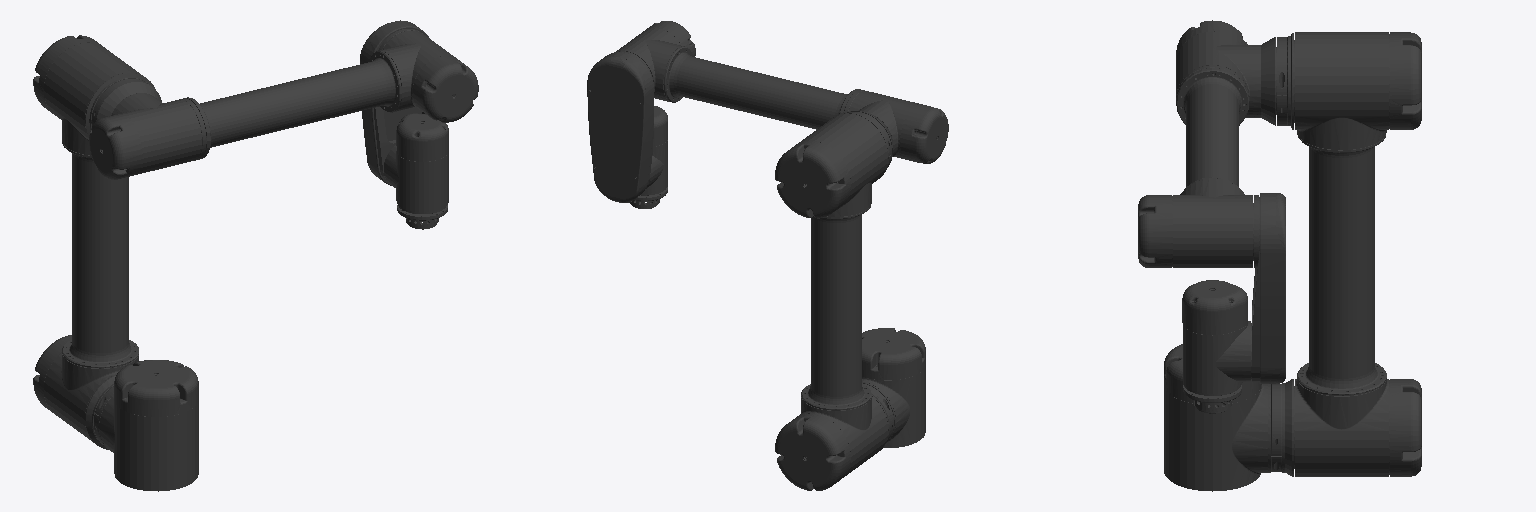
robot.urdf — robofox:
<?xml version="1.0" ?>
<!-- =================================================================================== -->
<!-- |    This document was autogenerated by xacro from robofox.urdf.xacro             | -->
<!-- |    EDITING THIS FILE BY HAND IS NOT RECOMMENDED                                 | -->
<!-- =================================================================================== -->
<robot name="robofox">
  <!-- chain -->
  <link name="robofox_base_link">
    <inertial>
      <origin rpy="0.0 0.0 0.0" xyz="1e-05 -0.0001 0.01969"/>
      <mass value="2.3"/>
      <inertia ixx="0.01013213" ixy="-2.04e-06" ixz="-5.7e-07" iyy="0.01013678" iyz="2.4e-07" izz="0.01483524"/>
    </inertial>
    <visual>
      <origin rpy="0 0 0" xyz="0 0 0"/>
      <geometry>
        <mesh filename="package://ibt_ros2_description/meshes/robofox_61814v3/visual/base_link.STL"/>
      </geometry>
      <material name="">
        <color rgba="0.30 0.30 0.30 1"/>
      </material>
    </visual>
    <collision>
      <origin rpy="0 0 0" xyz="0 0 0"/>
      <geometry>
        <mesh filename="package://ibt_ros2_description/meshes/robofox_61814v3/visual/base_link.STL"/>
      </geometry>
    </collision>
  </link>
  <link name="robofox_link1">
    <inertial>
      <origin rpy="0.0 0.0 0.0" xyz="-0.0001 0.00637 -0.02297"/>
      <mass value="19.67"/>
      <inertia ixx="0.13027937" ixy="7.454e-05" ixz="-0.00016703" iyy="0.12260381" iyz="0.00290136" izz="0.09448701"/>
    </inertial>
    <visual>
      <origin rpy="0 0 0" xyz="0 0 0"/>
      <geometry>
        <mesh filename="package://ibt_ros2_description/meshes/robofox_61814v3/visual/link1.STL"/>
      </geometry>
      <material name="">
        <color rgba="0.30 0.30 0.30 1"/>
      </material>
    </visual>
    <collision>
      <origin rpy="0 0 0" xyz="0 0 0"/>
      <geometry>
        <mesh filename="package://ibt_ros2_description/meshes/robofox_61814v3/visual/link1.STL"/>
      </geometry>
    </collision>
  </link>
  <joint name="robofox_joint1" type="revolute">
    <origin rpy="0 0 0" xyz="0 0 0.119"/>
    <parent link="robofox_base_link"/>
    <child link="robofox_link1"/>
    <axis xyz="0 0 -1"/>
    <limit effort="600" lower="-3.14" upper="3.14" velocity="1.2436"/>
    <dynamics damping="1" friction="0.1"/>
  </joint>
  <link name="robofox_link2">
    <inertial>
      <origin rpy="0.0 0.0 0.0" xyz="0.3294 0.0 0.23167"/>
      <mass value="41.3"/>
      <inertia ixx="0.22981017" ixy="0.00109137" ixz="0.09325593" iyy="4.8172914" iyz="-2.86e-05" izz="4.74258892"/>
    </inertial>
    <visual>
      <origin rpy="0 0 0" xyz="0 0 0"/>
      <geometry>
        <mesh filename="package://ibt_ros2_description/meshes/robofox_61814v3/visual/link2.STL"/>
      </geometry>
      <material name="">
        <color rgba="0.30 0.30 0.30 1"/>
      </material>
    </visual>
    <collision>
      <origin rpy="0 0 0" xyz="0 0 0"/>
      <geometry>
        <mesh filename="package://ibt_ros2_description/meshes/robofox_61814v3/visual/link2.STL"/>
      </geometry>
    </collision>
  </link>
  <joint name="robofox_joint2" type="revolute">
    <origin rpy="-1.5707963267948966 -1.5707963267948966 0" xyz="0 0 0"/>
    <parent link="robofox_link1"/>
    <child link="robofox_link2"/>
    <axis xyz="0 0 -1"/>
    <limit effort="690" lower="-3.14" upper="3.14" velocity="0.86"/>
    <dynamics damping="1" friction="0.1"/>
  </joint>
  <link name="robofox_link3">
    <inertial>
      <origin rpy="0.0 0.0 0.0" xyz="0.0003 0.00291 0.02181"/>
      <mass value="10.6"/>
      <inertia ixx="0.059281" ixy="0.00023999" ixz="-6.392e-05" iyy="0.00318588" iyz="-0.00095803" izz="0.04416185"/>
    </inertial>
    <visual>
      <origin rpy="0 0 0" xyz="0 0 0"/>
      <geometry>
        <mesh filename="package://ibt_ros2_description/meshes/robofox_61814v3/visual/link3.STL"/>
      </geometry>
      <material name="">
        <color rgba="0.30 0.30 0.30 1"/>
      </material>
    </visual>
    <collision>
      <origin rpy="0 0 0" xyz="0 0 0"/>
      <geometry>
        <mesh filename="package://ibt_ros2_description/meshes/robofox_61814v3/visual/link3.STL"/>
      </geometry>
    </collision>
  </link>
  <joint name="robofox_joint3" type="revolute">
    <origin rpy="0 0 3.141592653589793" xyz="0.725 0 0"/>
    <parent link="robofox_link2"/>
    <child link="robofox_link3"/>
    <axis xyz="0 0 -1"/>
    <limit effort="350" lower="-3.14" upper="3.14" velocity="1.24"/>
    <dynamics damping="1" friction="0.1"/>
  </joint>
  <link name="robofox_link4">
    <inertial>
      <origin rpy="0.0 0.0 0.0" xyz="0.0003 -0.00284 0.61561"/>
      <mass value="10.79"/>
      <inertia ixx="0.25159388" ixy="-0.00026609" ixz="0.0001837" iyy="0.23409286" iyz="-0.00209893" izz="0.041528"/>
    </inertial>
    <visual>
      <origin rpy="0 0 0" xyz="0 0 0"/>
      <geometry>
        <mesh filename="package://ibt_ros2_description/meshes/robofox_61814v3/visual/link4.STL"/>
      </geometry>
      <material name="">
        <color rgba="0.30 0.30 0.30 1"/>
      </material>
    </visual>
    <collision>
      <origin rpy="0 0 0" xyz="0 0 0"/>
      <geometry>
        <mesh filename="package://ibt_ros2_description/meshes/robofox_61814v3/visual/link4.STL"/>
      </geometry>
    </collision>
  </link>
  <joint name="robofox_joint4" type="revolute">
    <origin rpy="1.5707963267948966 0 0" xyz="0 0 0"/>
    <parent link="robofox_link3"/>
    <child link="robofox_link4"/>
    <axis xyz="0 0 -1"/>
    <limit effort="145" lower="-3.14" upper="3.14" velocity="2.71"/>
    <dynamics damping="1" friction="0.1"/>
  </joint>
  <link name="robofox_link5">
    <inertial>
      <origin rpy="0.0 0.0 0.0" xyz="0.0004 -0.21124 0.02558"/>
      <mass value="6.58"/>
      <inertia ixx="0.05454486" ixy="0.00015729" ixz="-0.0002552" iyy="0.02431281" iyz="0.01243741" izz="0.04497239"/>
    </inertial>
    <visual>
      <origin rpy="0 0 0" xyz="0 0 0"/>
      <geometry>
        <mesh filename="package://ibt_ros2_description/meshes/robofox_61814v3/visual/link5.STL"/>
      </geometry>
      <material name="">
        <color rgba="0.30 0.30 0.30 1"/>
      </material>
    </visual>
    <collision>
      <origin rpy="0 0 0" xyz="0 0 0"/>
      <geometry>
        <mesh filename="package://ibt_ros2_description/meshes/robofox_61814v3/visual/link5.STL"/>
      </geometry>
    </collision>
  </link>
  <joint name="robofox_joint5" type="revolute">
    <origin rpy="-1.5707963267948966 1.5707963267948966 0" xyz="0 0 0.6751"/>
    <parent link="robofox_link4"/>
    <child link="robofox_link5"/>
    <axis xyz="0 0 -1"/>
    <limit effort="145" lower="-3.14" upper="3.14" velocity="2.71"/>
    <dynamics damping="1" friction="0.1"/>
  </joint>
  <link name="robofox_link6">
    <inertial>
      <origin rpy="0.0 0.0 0.0" xyz="0.0005 1e-05 -0.02566"/>
      <mass value="0.4"/>
      <inertia ixx="0.0003182" ixy="-1.22e-06" ixz="1.17e-06" iyy="0.00032368" iyz="2e-07" izz="0.00052411"/>
    </inertial>
    <visual>
      <origin rpy="0 0 0" xyz="0 0 0"/>
      <geometry>
        <mesh filename="package://ibt_ros2_description/meshes/robofox_61814v3/visual/link6.STL"/>
      </geometry>
      <material name="">
        <color rgba="0.30 0.30 0.30 1"/>
      </material>
    </visual>
    <collision>
      <origin rpy="0 0 0" xyz="0 0 0"/>
      <geometry>
        <mesh filename="package://ibt_ros2_description/meshes/robofox_61814v3/visual/link6.STL"/>
      </geometry>
    </collision>
  </link>
  <joint name="robofox_joint6" type="revolute">
    <origin rpy="1.5707963267948966 3.141592653589793 0" xyz="0 -0.36 0"/>
    <parent link="robofox_link5"/>
    <child link="robofox_link6"/>
    <axis xyz="0 0 -1"/>
    <limit effort="85" lower="-3.14" upper="3.14" velocity="3.61"/>
    <dynamics damping="1" friction="0.1"/>
  </joint>
</robot>

--- What the picture shows (computed from the rendered views, not written in the file) ---
The picture shows the robot from 3 angles, left to right: view 1: azimuth 30°, elevation 25°; view 2: azimuth 150°, elevation 25°; view 3: azimuth 270°, elevation 25°; orthographic projection.
Model robofox with 7 links and 6 joints (6 revolute), rooted at robofox_base_link, posed all joints at 0.
Visible links, largest first — view 1: robofox_link2, robofox_link4, robofox_link1, robofox_link3, robofox_link5, robofox_link6; view 2: robofox_link2, robofox_link4, robofox_link5, robofox_link1, robofox_link3; view 3: robofox_link2, robofox_link4, robofox_link5, robofox_link1, robofox_link3, robofox_link6.
Boxes of the visible links, x1=… form: robofox_link2: x1=33, y1=35, x2=155, y2=449; robofox_link4: x1=187, y1=29, x2=478, y2=159; robofox_link1: x1=94, y1=360, x2=198, y2=491; robofox_link3: x1=89, y1=81, x2=206, y2=179; robofox_link5: x1=360, y1=20, x2=448, y2=213; robofox_link6: x1=397, y1=205, x2=447, y2=229; robofox_link2: x1=775, y1=112, x2=891, y2=490; robofox_link4: x1=616, y1=21, x2=860, y2=129; robofox_link5: x1=587, y1=52, x2=667, y2=202; robofox_link1: x1=862, y1=328, x2=925, y2=447; robofox_link3: x1=844, y1=90, x2=948, y2=167; robofox_link2: x1=1277, y1=32, x2=1421, y2=476; robofox_link4: x1=1138, y1=68, x2=1259, y2=267; robofox_link5: x1=1182, y1=193, x2=1285, y2=395; robofox_link1: x1=1164, y1=344, x2=1281, y2=491; robofox_link3: x1=1176, y1=20, x2=1276, y2=125; robofox_link6: x1=1183, y1=385, x2=1241, y2=413.
Size in the robot's own frame: 0.8943 by 0.537 by 0.91 metres.
Meshes: 7 distinct files referenced, 6 mesh visuals loaded (6 binary STL); not drawn: 1 (reference not matched to a file when rendering).
